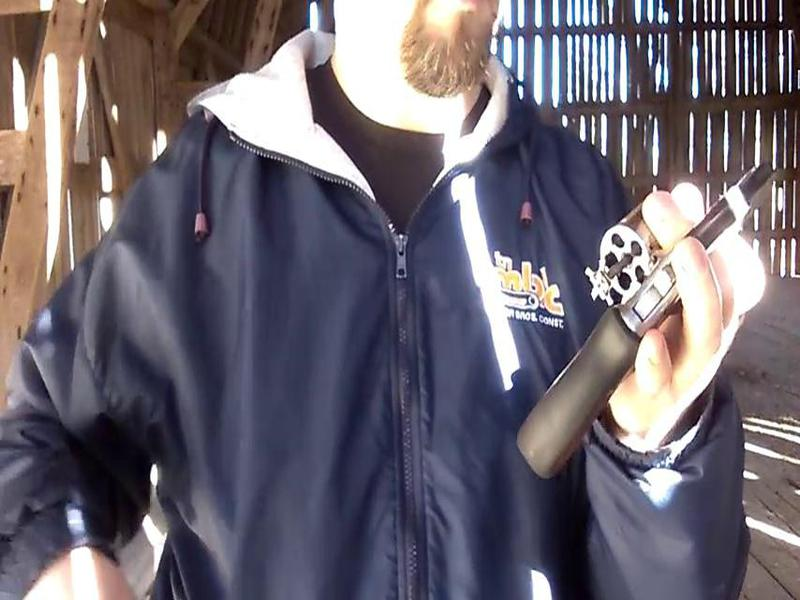Revolver: (527, 124, 777, 490)
